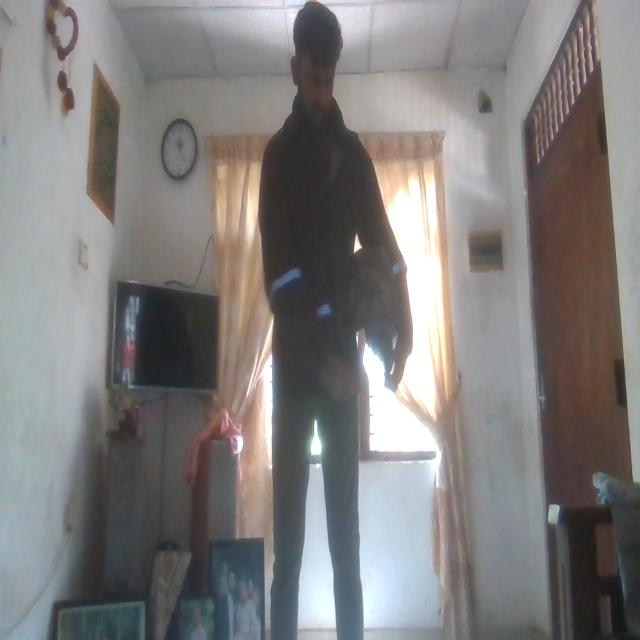Jacket_Wearer: (259, 104, 401, 418)
Person: (255, 30, 401, 603)
